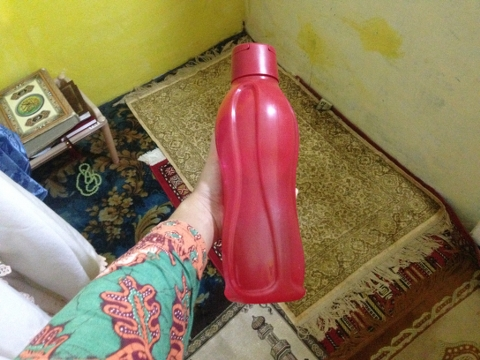tempat minum: (215, 43, 306, 304)
